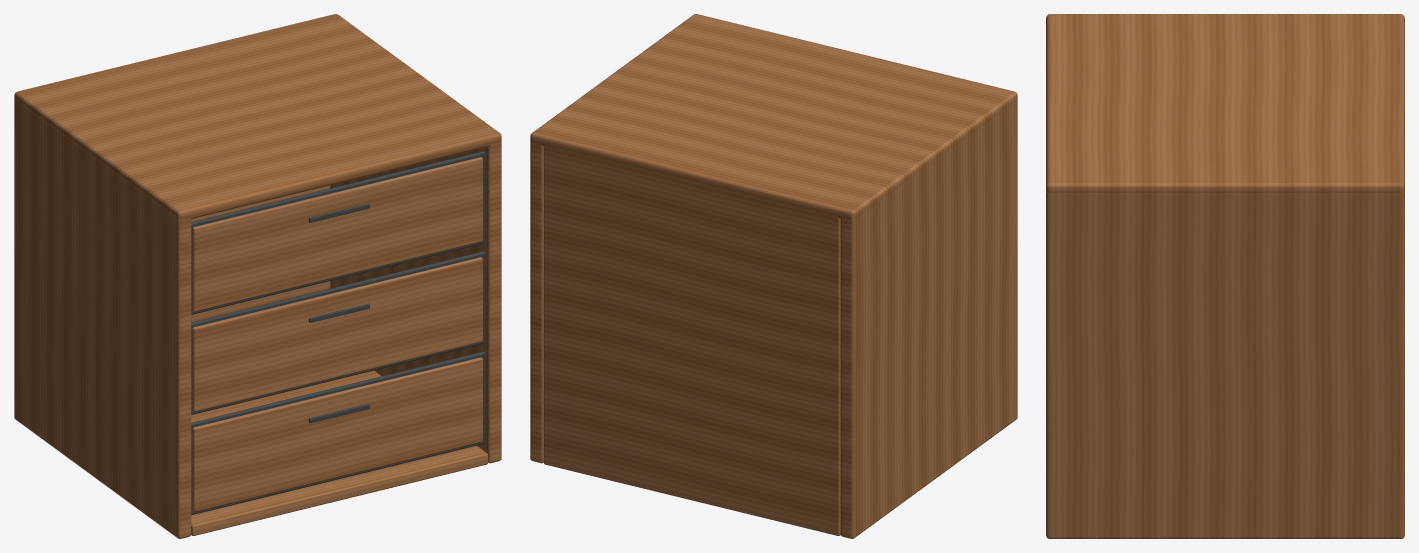
Rendered from bedside_v06a.glb.
3 views of the same model, side by side, from view 1: azimuth 30°, elevation 25°; view 2: azimuth 150°, elevation 25°; view 3: azimuth 270°, elevation 25° (orthographic). The views are drawn at different scales.
Visible parts, largest first — view 1: VIS_BedsideWood, VIS_BedsideRevealsAndPulls; view 2: VIS_BedsideWood; view 3: VIS_BedsideWood.
Boxes of the visible parts, x1,y1,x2,y2 form: VIS_BedsideWood: (14, 14, 501, 538); VIS_BedsideRevealsAndPulls: (191, 151, 485, 514); VIS_BedsideWood: (530, 14, 1017, 538); VIS_BedsideWood: (1046, 14, 1404, 538).
Size of the model in its own units: 0.6 by 0.58 by 0.53.
Materials: 2 (1 with a texture image).
